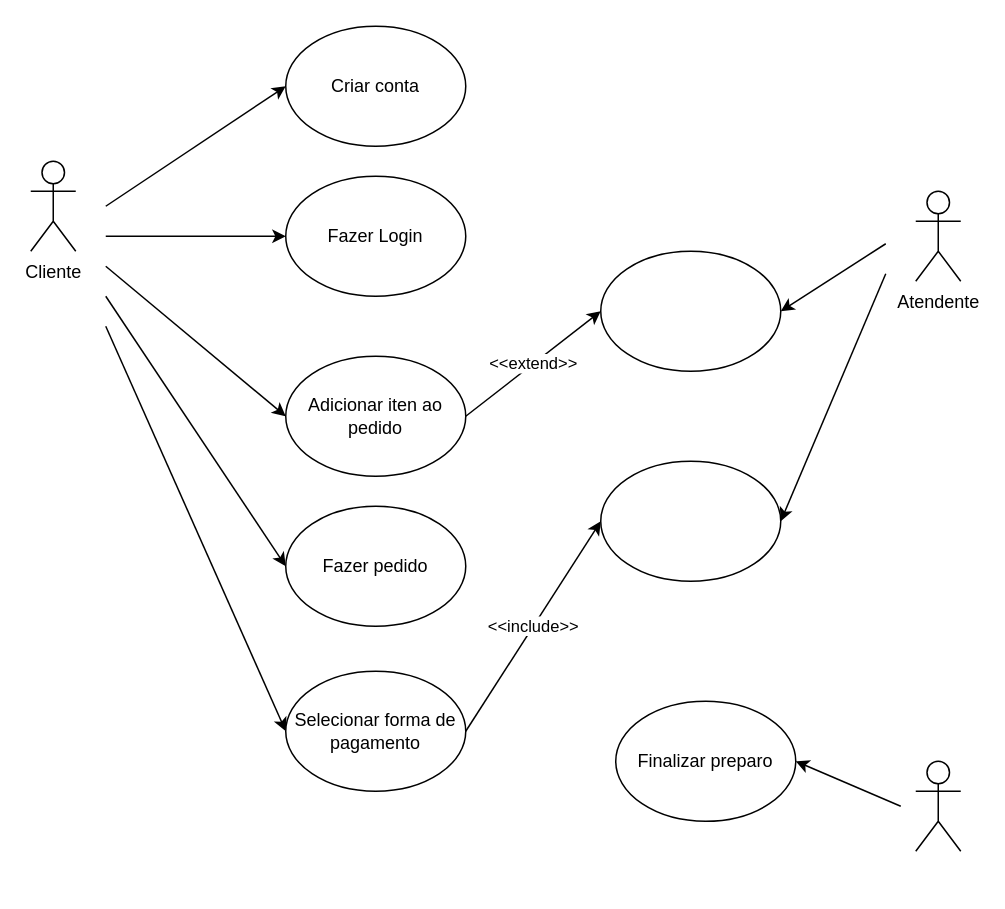
Some shapes in this 1005 by 909 pixel diagram are drawn without their labels. The centre of each missing label's shape, as x and y in pixels:
"Confirmar pedido" belongs at point 690,520.
"Consultar pedidos" belongs at point 690,310.
"Pizzaiolo" belongs at point 937,805.
